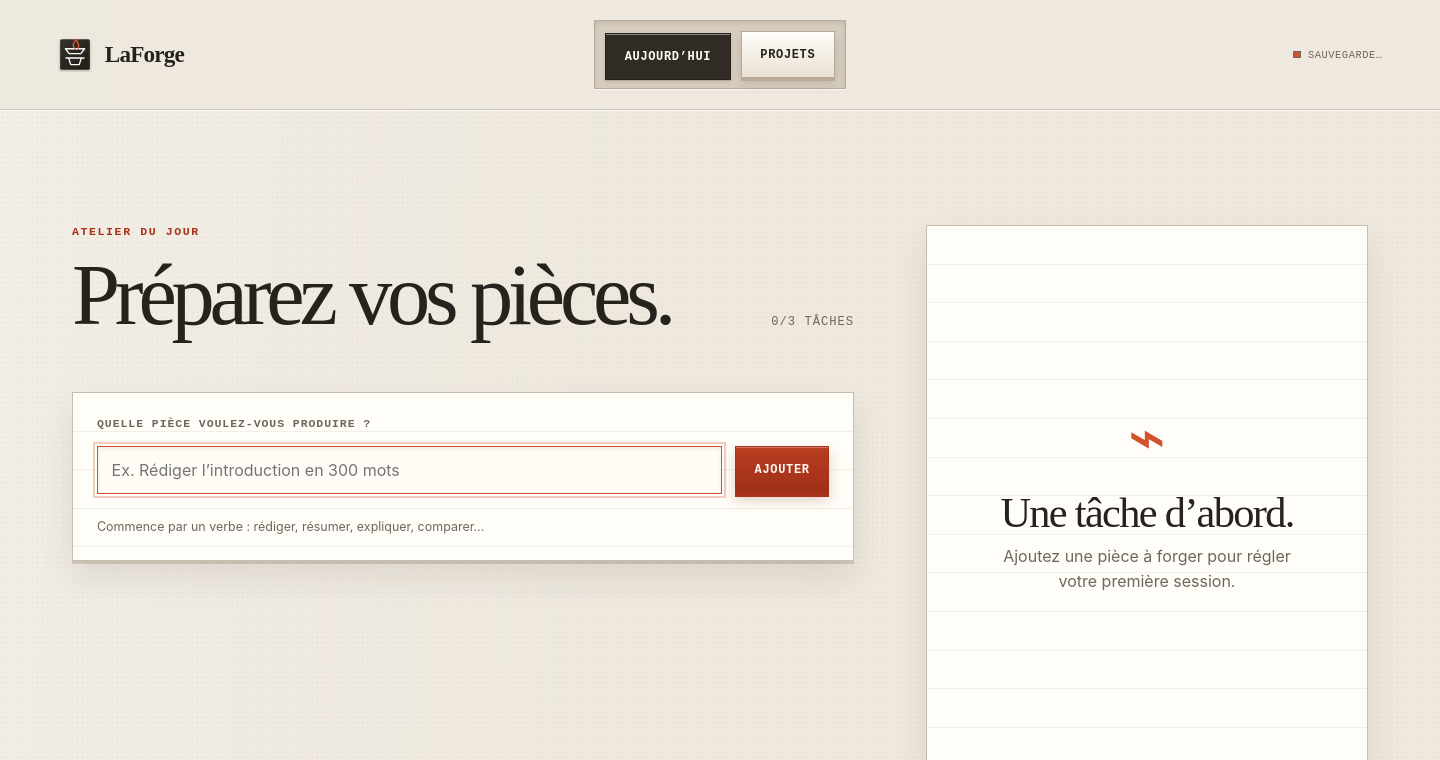
Test: App › adds a concrete task to the preparation
Type "Rédiger une scène" into the field labelled "Quelle pièce voulez-vous produire ?". click: point(410, 470)
box: left=97, top=446, right=722, bottom=494
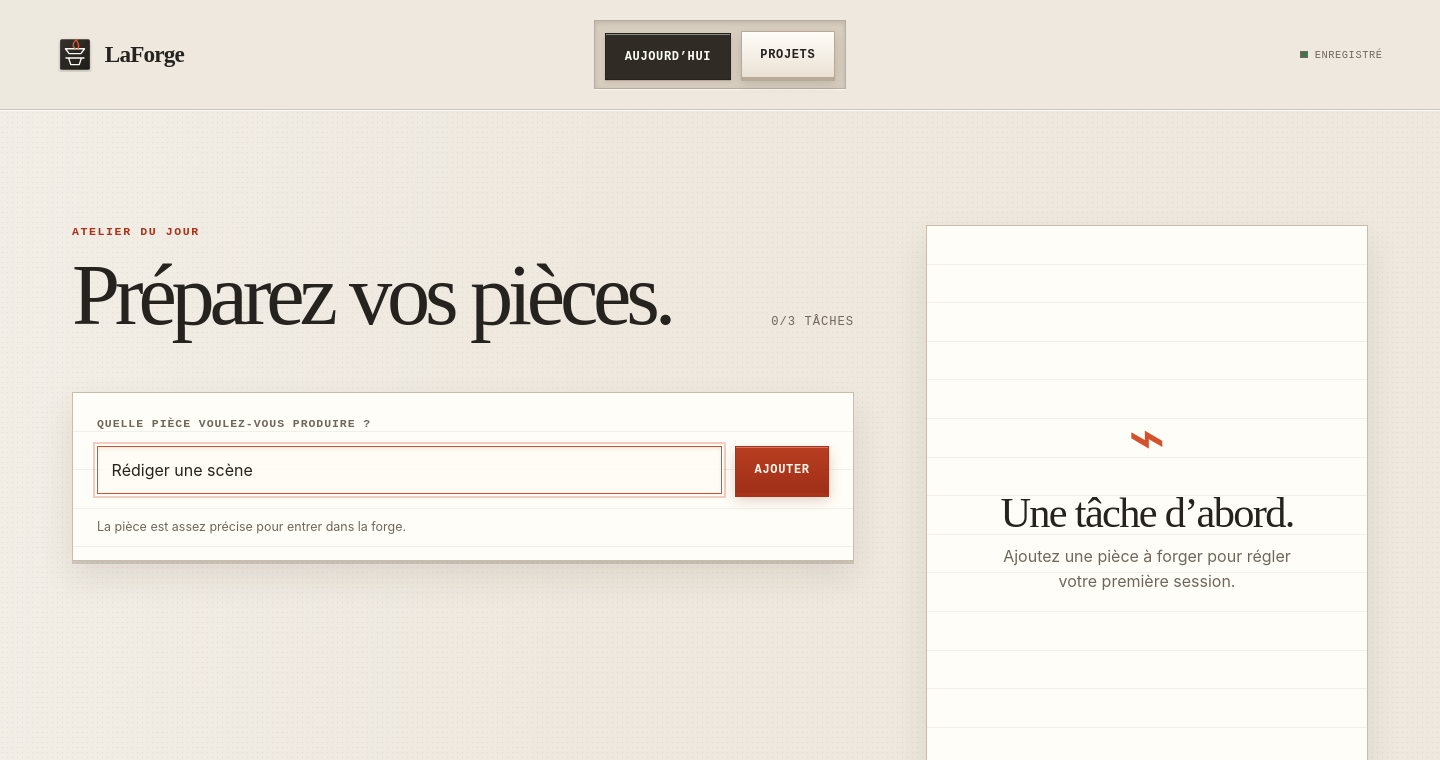
Click the button "Ajouter". click: point(782, 470)
box: left=735, top=446, right=829, bottom=494
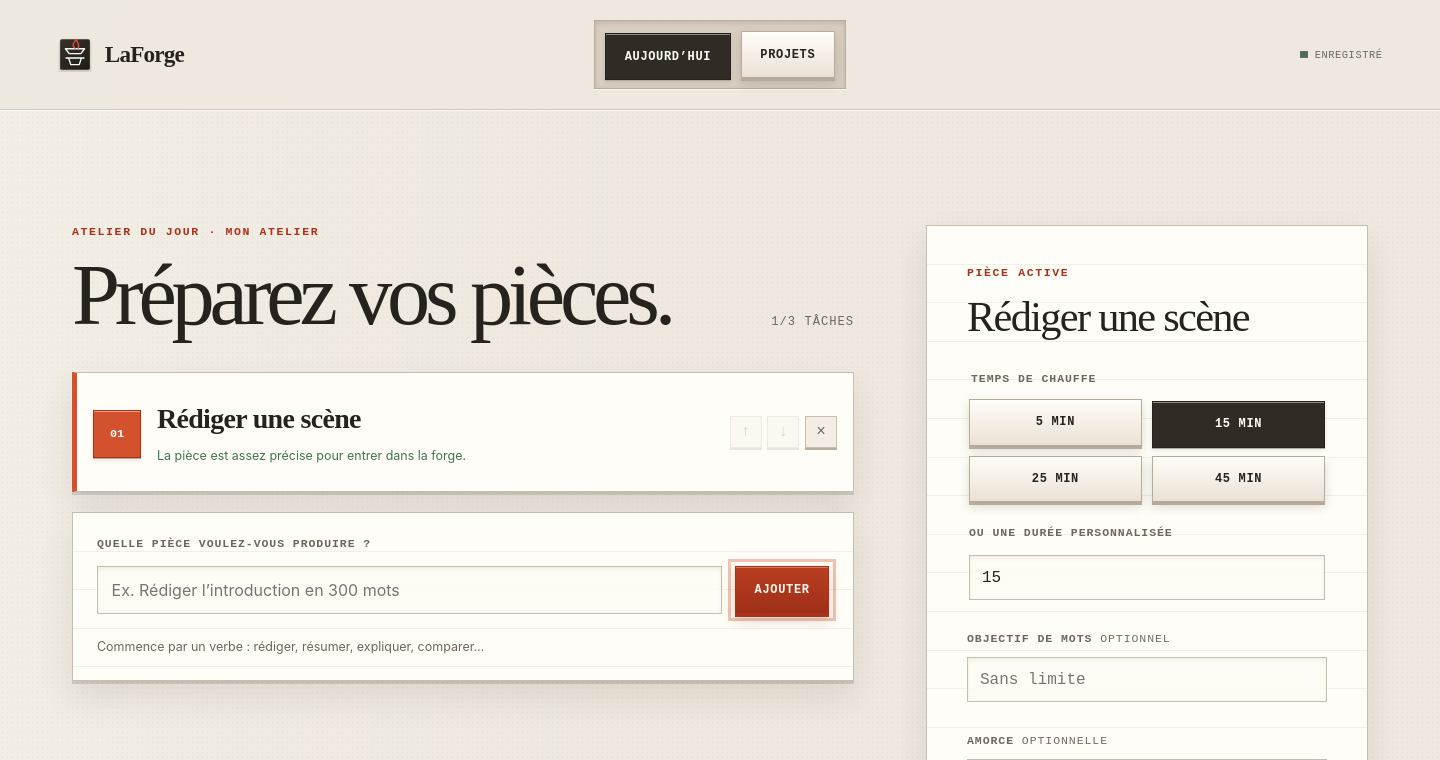
Check: the field showing "Rédiger une scène" is shown, box left=157, top=399, right=714, bottom=440
Check: the heading "Rédiger une scène" is shown, box left=967, top=293, right=1249, bottom=340
